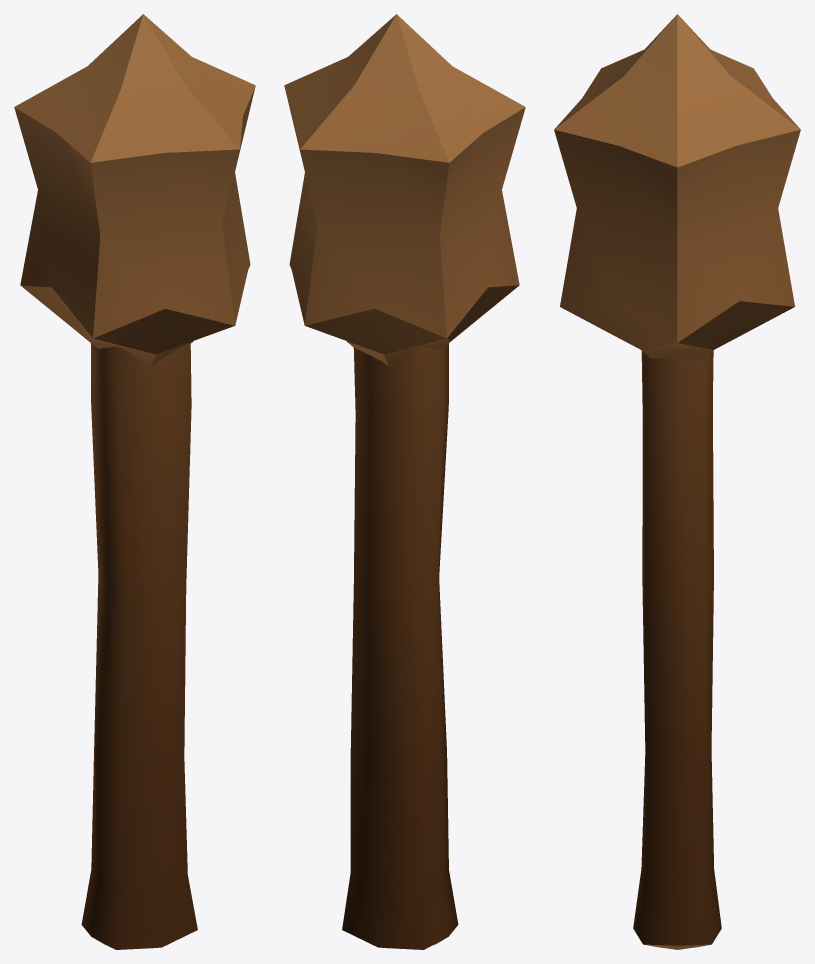
The model's file is Mace_01.fbx.
The picture shows the model from 3 angles, left to right: view 1: azimuth 30°, elevation 25°; view 2: azimuth 150°, elevation 25°; view 3: azimuth 270°, elevation 25°; orthographic projection.
Visible parts, largest first — view 1: Mace_01; view 2: Mace_01; view 3: Mace_01.
Part boxes in pixels (bbox=[...]): Mace_01: bbox=[14, 14, 255, 949]; Mace_01: bbox=[284, 14, 525, 949]; Mace_01: bbox=[554, 14, 800, 949].
Size of the model in its own units: 24.72 by 107 by 25.94.
